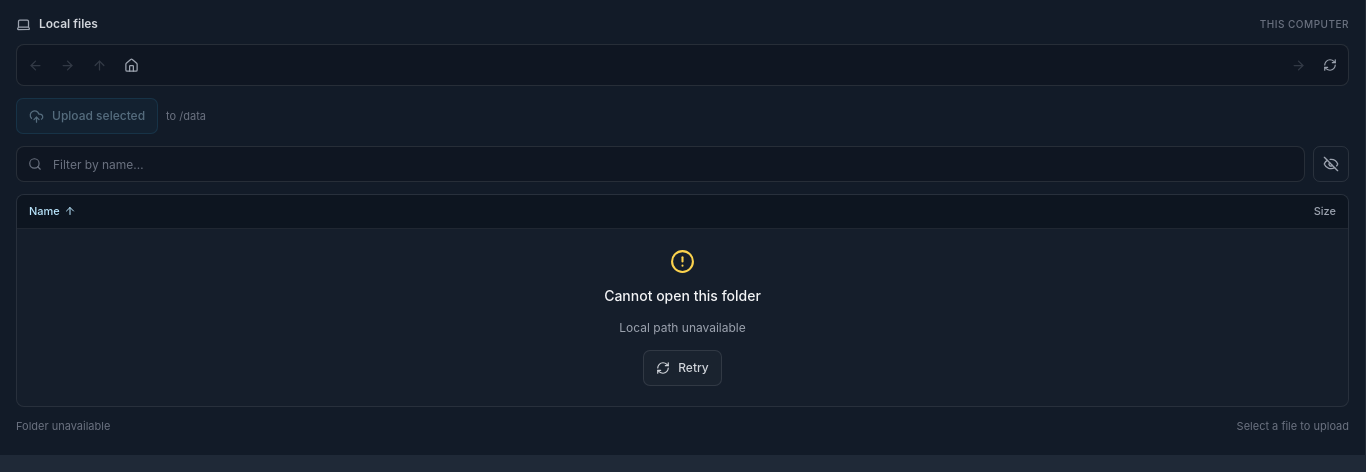
Test: Local file panel › shows a recoverable listing failure and retries the attempted path
The image size is (1366, 472).
Expected: the text "Local path unavailable" is shown, [619, 318, 746, 338]
Click the button "Retry": (683, 368) [643, 350, 722, 386]
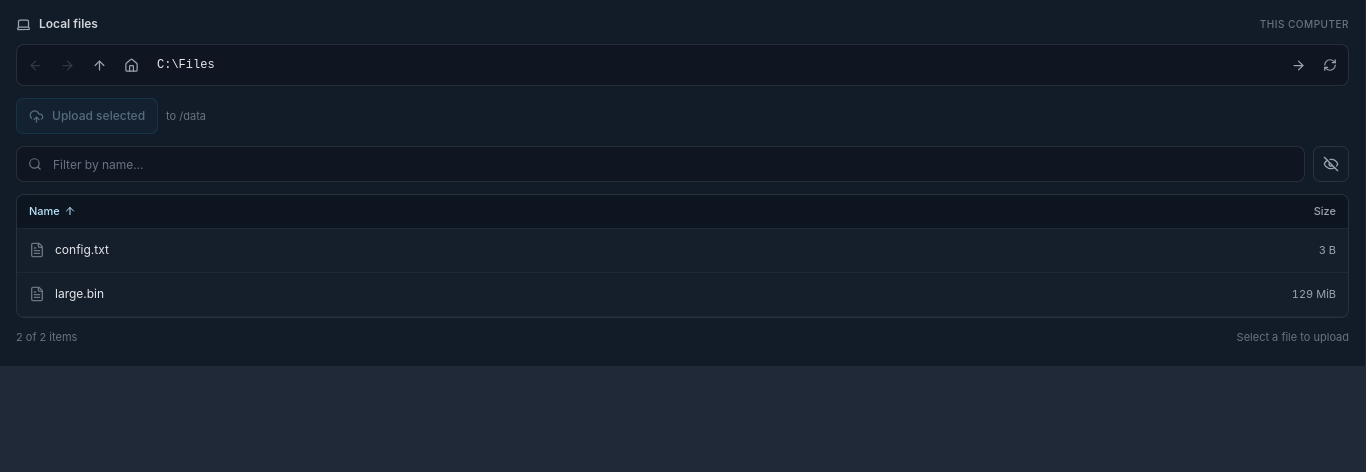
Expected: the button "config.txt 3 B" is shown, [17, 228, 1348, 272]
